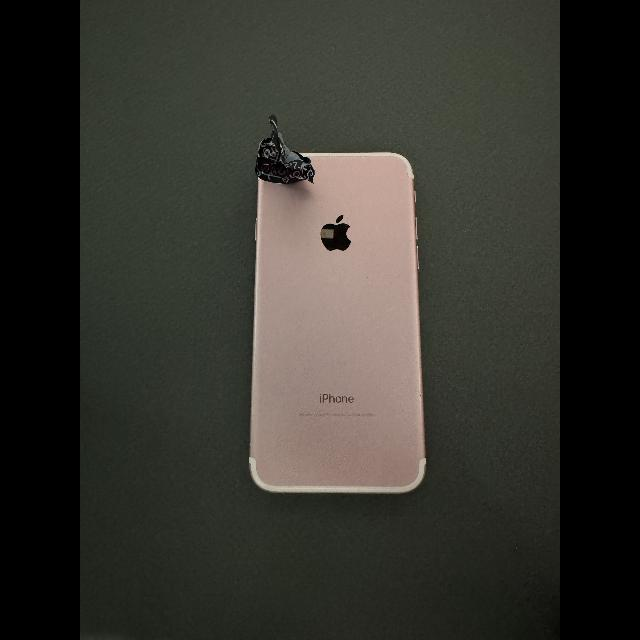phone: (250, 152, 426, 493)
sticker: (255, 115, 315, 184)
